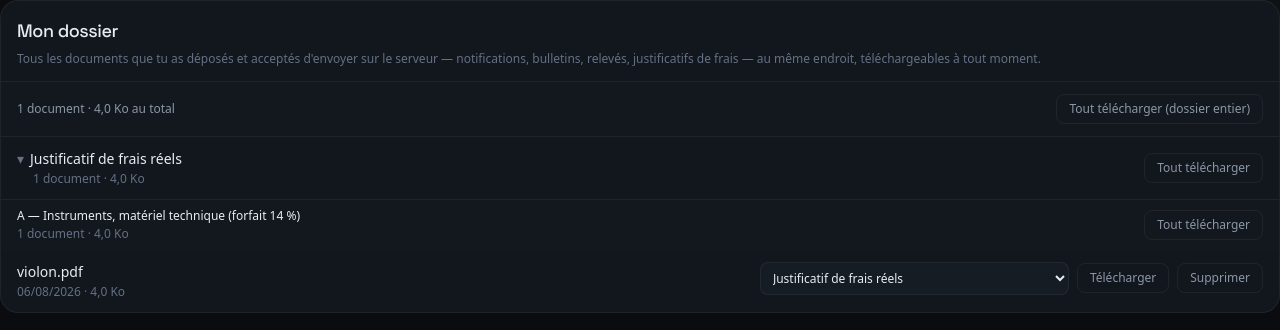
MonDossier — regroupement et téléchargement groupé (06/08/2026) › replier un groupe cache ses documents sans les faire disparaître du total
This screenshot has width=1280, height=330.
Expected: the text "violon.pdf" is shown, [17, 262, 83, 280]
Click the button "▾Justificatif de frais réels 1 document · 4,0 Ko" at (99, 168), box [17, 148, 182, 186]
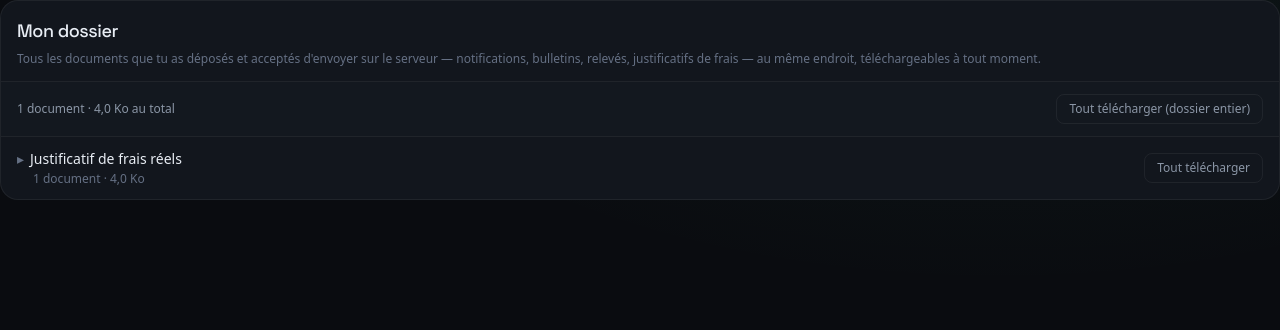
Expected: the text "1 document · 4,0 Ko au total" is shown, [17, 100, 175, 116]
Expected: the text "violon.pdf" is gone
